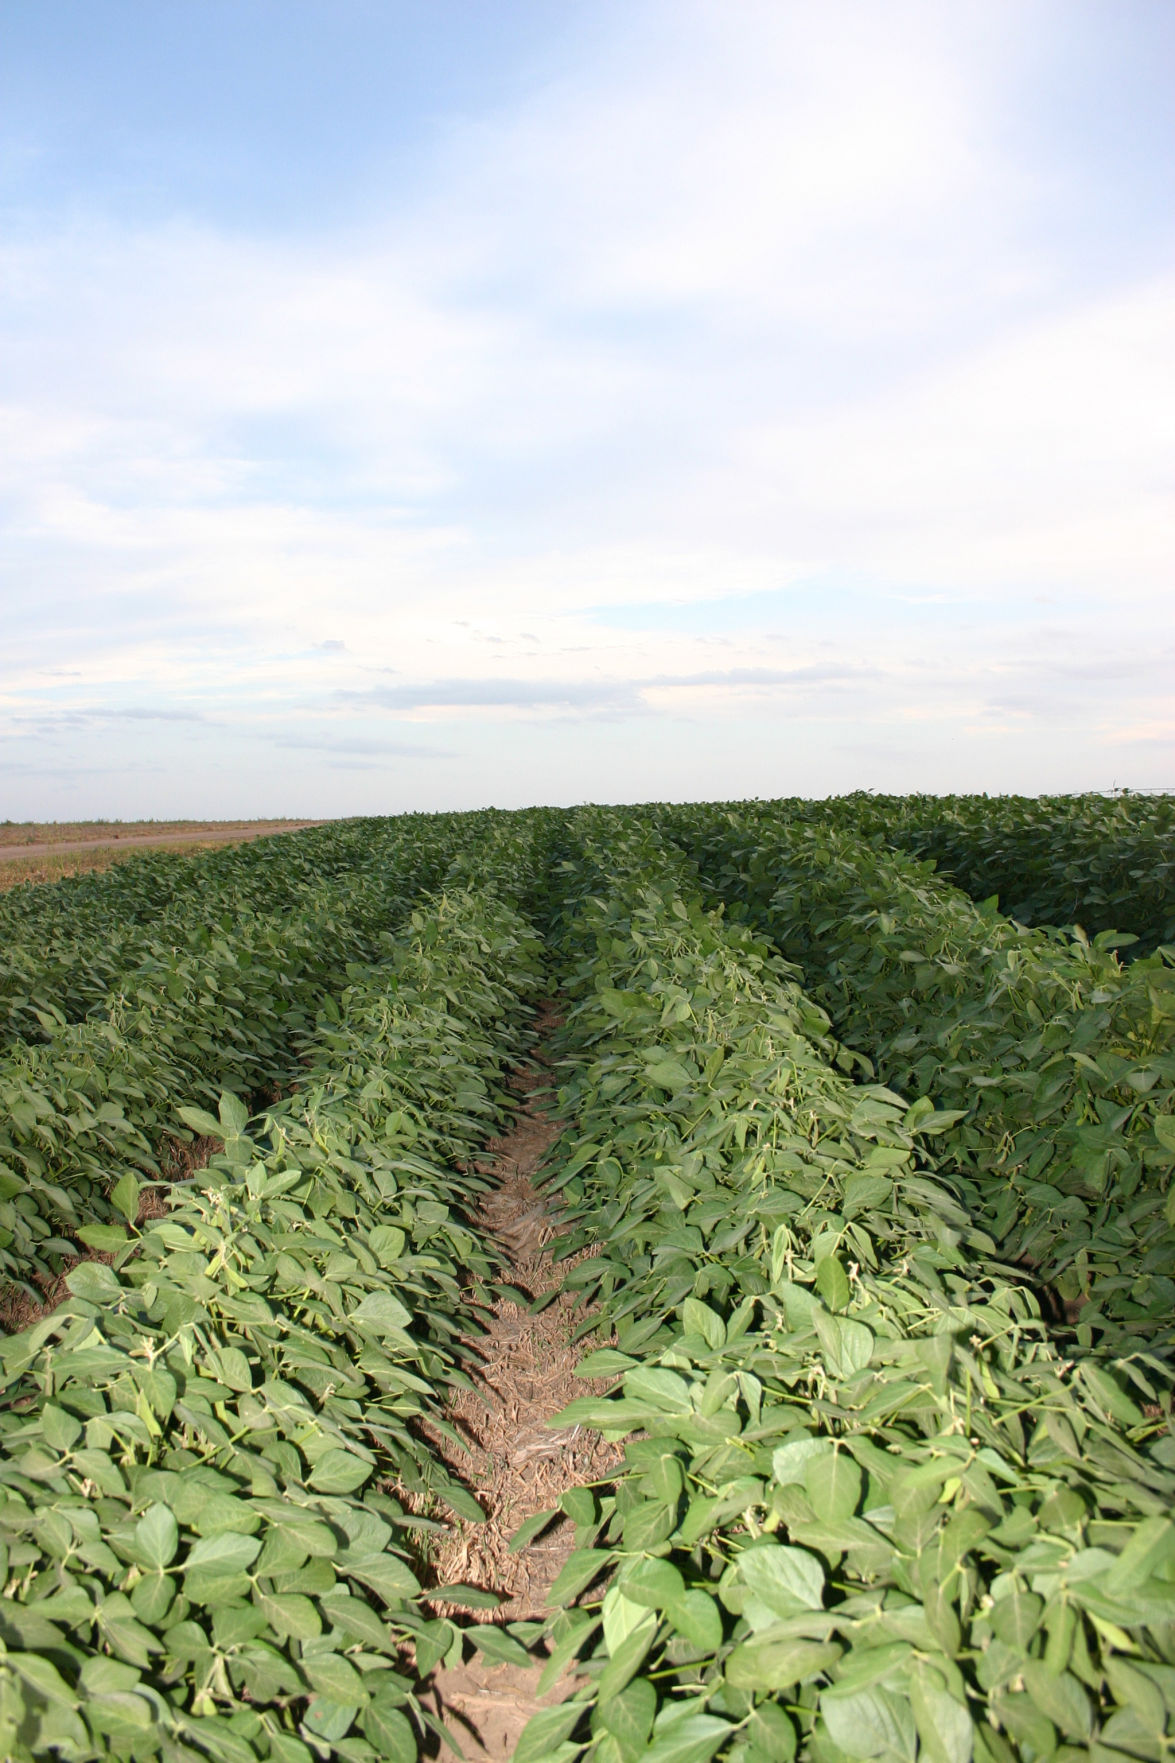soyabean: (603, 813, 1159, 1745), (7, 830, 528, 1751)
